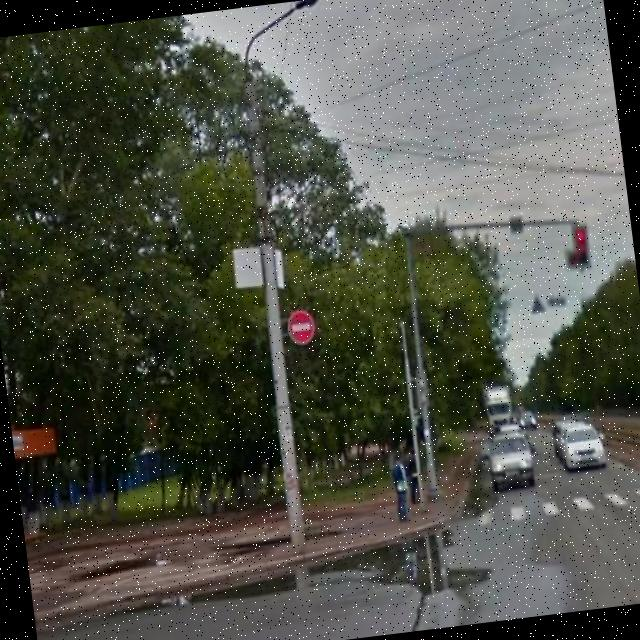Zakaz wjazdu: (284, 302, 320, 352)
